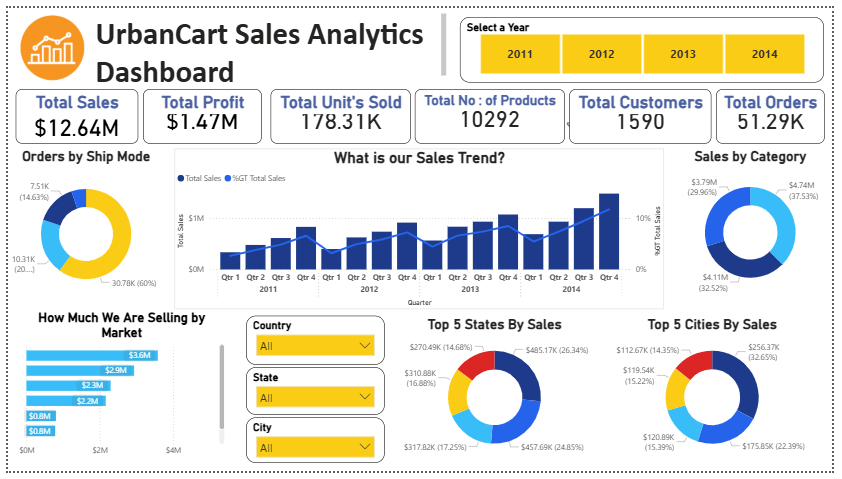

The page's visual inventory and layout, read from the dashboard file:
{"tool":"powerbi","page":{"name":"Page 1","canvas":[1280,720],"ordinal":0},"visuals":[{"type":"textbox","box":[129.6,4.3,555.8,116.6],"z":0},{"type":"image","box":[7.3,4.4,121.9,116.1],"z":1000},{"type":"donutChart","title":"Sales by Category","fields":{"Category":["Orders.Category"],"Y":["Sum(Orders.Sales)"]},"box":[1025.5,217.8,254.8,236.9],"z":2000},{"type":"donutChart","title":"Orders by Ship Mode","fields":{"Category":["Orders.Ship Mode"],"Y":["CountNonNull(Orders.Order ID)"]},"box":[0,217.8,243.3,242],"z":3000},{"type":"lineClusteredColumnComboChart","title":"What is our Sales Trend?","fields":{"Category":["Orders.Order Date.Variation.Date Hierarchy.Year","Orders.Order Date.Variation.Date Hierarchy.Quarter","Orders.Order Date.Variation.Date Hierarchy.Month","Orders.Order Date.Variation.Date Hierarchy.Day"],"Y":["Orders.Total Sales"],"Y2":["Divide(Orders.Total Sales, ScopedEval(Orders.Total Sales, []))"]},"box":[257.3,217.8,763.1,251],"z":4000},{"type":"barChart","title":"How Much We Are Selling by Market","fields":{"Y":["Sum(Orders.Sales)"],"Category":["Orders.Market"]},"box":[11.3,468.2,329.6,239],"z":5000},{"type":"donutChart","title":"Top 5 States By Sales","fields":{"Category":["Orders.State"],"Y":["Sum(Orders.Sales)"]},"box":[604,478.1,304.1,229.1],"z":6000},{"type":"donutChart","title":"Top 5 Cities By Sales","fields":{"Category":["Orders.City"],"Y":["Sum(Orders.Sales)"]},"box":[940.6,478.1,308.3,229.1],"z":7000},{"type":"slicer","title":"State","fields":{"Values":["Orders.State"]},"box":[370.6,557.3,215,73.5],"z":8000},{"type":"slicer","title":"Country","fields":{"Values":["Orders.Country"]},"box":[370.6,478.1,215,76.4],"z":9000},{"type":"slicer","title":"City","fields":{"Values":["Orders.City"]},"box":[370.6,636.5,215,70.7],"z":10000},{"type":"slicer","title":"Select a Year","fields":{"Values":["Orders.Order Date.Variation.Date Hierarchy.Year"]},"box":[703,14.1,565.8,101.8],"z":11000},{"type":"card","title":"Total Profit","fields":{"Values":["Orders.Total Profit"]},"box":[210,125.7,184.3,84.3],"z":12000},{"type":"card","title":"Total Sales","fields":{"Values":["Orders.Total Sales"]},"box":[11.4,125.7,190,84.3],"z":13000},{"type":"card","title":"Total Customers","fields":{"Values":["Orders.Total Customers"]},"box":[872.7,125.9,220.6,84.9],"z":14000},{"type":"card","title":"Total Orders","fields":{"Values":["Orders.Total Orders"]},"box":[1100,125.7,168.6,84.3],"z":15000},{"type":"card","title":"Total No : of Products","fields":{"Values":["Orders.Total No: of Products"]},"box":[632.9,125.7,232.9,84.3],"z":16000},{"type":"card","title":"Total Unit''s Sold","fields":{"Values":["Orders.Total Qty's Sold"]},"box":[407.4,125.9,217.8,84.9],"z":18000}]}

Visuals, with their boxes in screenshot pixels (x1, y1, x2, y2), scaled from the page's 1280x720 canvas onto the 842x479 screenshot:
textbox: (85,3,451,80)
image: (5,3,85,80)
"Sales by Category" donutChart: (675,145,841,303)
"Orders by Ship Mode" donutChart: (0,145,160,306)
"What is our Sales Trend?" lineClusteredColumnComboChart: (169,145,671,312)
"How Much We Are Selling by Market" barChart: (7,311,224,470)
"Top 5 States By Sales" donutChart: (397,318,597,470)
"Top 5 Cities By Sales" donutChart: (619,318,822,470)
"State" slicer: (244,371,385,420)
"Country" slicer: (244,318,385,369)
"City" slicer: (244,423,385,470)
"Select a Year" slicer: (462,9,835,77)
"Total Profit" card: (138,84,259,140)
"Total Sales" card: (7,84,132,140)
"Total Customers" card: (574,84,719,140)
"Total Orders" card: (724,84,835,140)
"Total No : of Products" card: (416,84,570,140)
"Total Unit''s Sold" card: (268,84,411,140)
